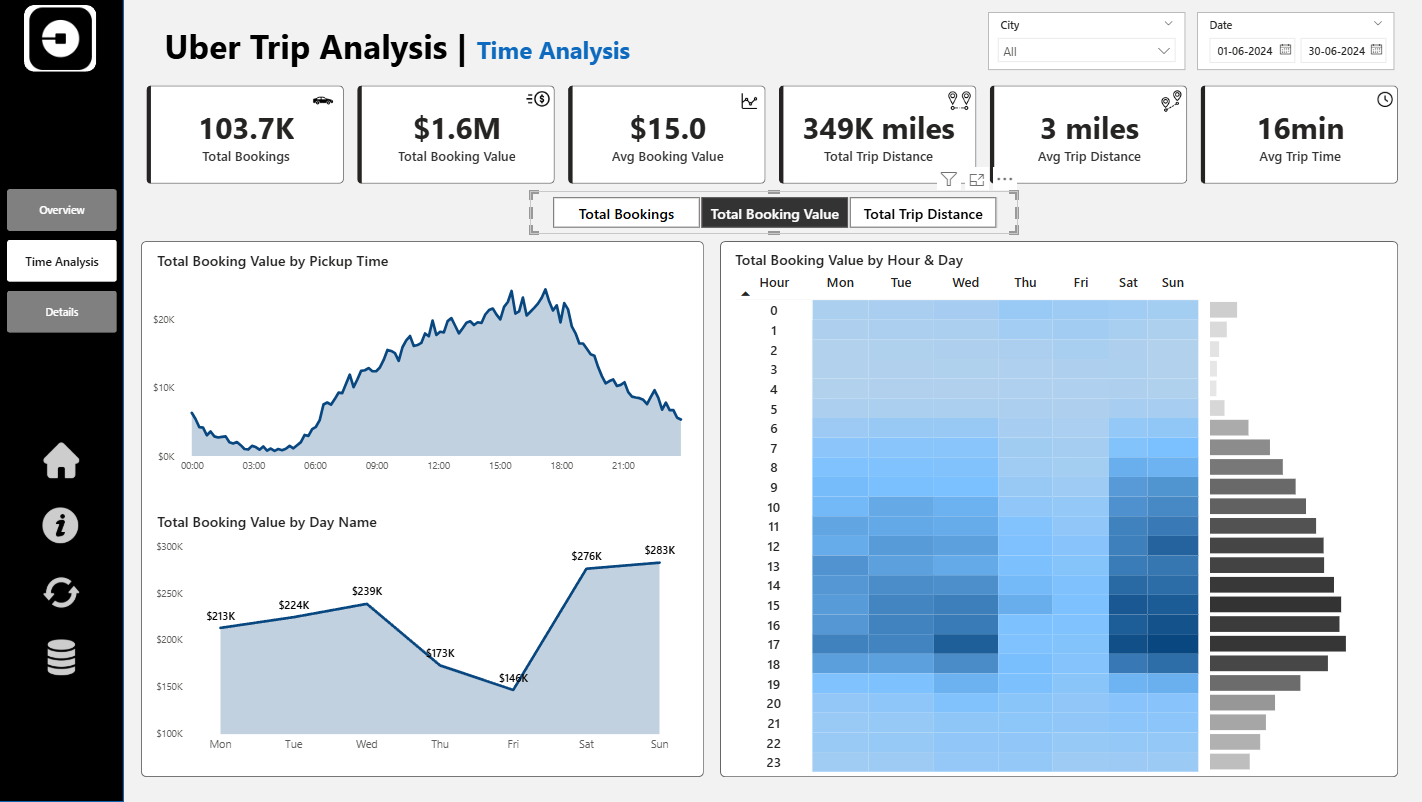

This screenshot's page, from the dashboard's own definition file:
{"tool":"powerbi","page":{"name":"Time Analysis","canvas":[1600,900],"ordinal":1},"visuals":[{"type":"shape","box":[161.2,272,630.2,600],"z":0},{"type":"shape","box":[0,0,141.8,899.9],"z":1000},{"type":"textbox","box":[182.5,23.5,596.6,73.9],"z":2000},{"type":"cardVisual","fields":{"Data":["Calculation Table.Total Bookings","Calculation Table.Total Booking Amount","Calculation Table.Avg Booking Amount","Calculation Table.Total Trip Distance","Calculation Table.Avg Trip Distance","Calculation Table.Avg Trip Time"]},"box":[162,93,1415,120],"z":3000},{"type":"image","box":[587.2,92.4,36.5,40.1],"z":4000},{"type":"image","box":[1059,97.3,36.5,35.3],"z":5000},{"type":"shape","box":[30.6,7.9,81,74.7],"z":5250,"group":"g1"},{"type":"image","box":[30,6,82,80],"z":5500,"group":"g1"},{"type":"image","box":[1298.5,97.3,34,35.3],"z":6000},{"type":"image","box":[1540.4,93.6,26.7,38.9],"z":7000},{"type":"image","box":[826.7,97.3,30.4,35.3],"z":8000},{"type":"image","box":[342.9,97.3,45,35.3],"z":9000},{"type":"slicer","fields":{"Values":["Dynamic Measure.Dynamic Measure"]},"box":[596.6,216,546.3,48],"z":10000},{"type":"slicer","fields":{"Values":["Calender Table.Date"]},"box":[1343.3,16,221,65],"z":11000},{"type":"slicer","fields":{"Values":["Location Table.City"]},"box":[1109.3,16,220.5,65],"z":12000},{"type":"areaChart","fields":{"Y":["Calculation Table.Total Bookings"],"Category":["Trip Details.Pickup Hour (HH MM SS) (bins)"]},"box":[169,307.8,614.6,234],"z":13000},{"type":"areaChart","fields":{"Y":["Calculation Table.Total Bookings"],"Category":["Calender Table.Day Name"]},"box":[172.5,600.3,607.1,253],"z":14000},{"type":"cardVisual","fields":{"Data":["Trip Details.Title for by Day Name"]},"box":[162.3,549.2,296.2,51.1],"z":15000},{"type":"cardVisual","fields":{"Data":["Trip Details.Title for by pickup time"]},"box":[162.3,257.5,296.6,51.5],"z":16000},{"type":"shape","box":[809.1,272.3,759.1,600.3],"z":17000},{"type":"pivotTable","fields":{"Values":["Calculation Table.Total Bookings"],"Rows":["Trip Details.Pick Up Hour (HH)"],"Columns":["Calender Table.Day Name"]},"box":[822.7,301,568.5,571.9],"z":18000},{"type":"barChart","fields":{"Y":["Calculation Table.Total Bookings"],"Category":["Trip Details.Pick Up Hour (HH)"]},"box":[1358.3,327,189.5,564],"z":19000},{"type":"cardVisual","fields":{"Data":["Trip Details.Title for by Hour & Day"]},"box":[809.1,256.5,296.2,51.1],"z":20000},{"type":"pageNavigator","box":[11,213.2,123,163],"z":21000},{"type":"group","id":"g1","title":"logo","box":[30,6,82,80],"z":22000},{"type":"image","box":[47,493,49.8,49.8],"z":23000},{"type":"image","box":[47,632.5,49.8,65.6],"z":24000},{"type":"image","box":[47,712.9,49.8,49.8],"z":25000},{"type":"group","id":"g2","title":"Group 1","box":[46.2,565,51.3,51.3],"z":26000},{"type":"image","box":[46.2,565,49.9,49.9],"z":31500,"group":"g2"},{"type":"card","fields":{"Values":["Calculation Table.Blank"]},"box":[46.2,565,51.3,51.3],"z":38500,"group":"g2"}]}

Visuals, with their boxes on the page's 1600x900 design canvas (x1, y1, x2, y2). These are canvas units, not pixel positions in the 1422x802 screenshot, which may show the page scaled, cropped or inside an application window:
shape: (161, 272, 791, 872)
shape: (0, 0, 142, 900)
textbox: (182, 24, 779, 97)
cardVisual - Calculation Table.Total Bookings x Calculation Table.Total Booking Amount: (162, 93, 1577, 213)
image: (587, 92, 624, 132)
image: (1059, 97, 1096, 133)
shape: (31, 8, 112, 83)
image: (30, 6, 112, 86)
image: (1298, 97, 1332, 133)
image: (1540, 94, 1567, 132)
image: (827, 97, 857, 133)
image: (343, 97, 388, 133)
slicer - Dynamic Measure.Dynamic Measure: (597, 216, 1143, 264)
slicer - Calender Table.Date: (1343, 16, 1564, 81)
slicer - Location Table.City: (1109, 16, 1330, 81)
areaChart - Calculation Table.Total Bookings x Trip Details.Pickup Hour (HH MM SS) (bins): (169, 308, 784, 542)
areaChart - Calculation Table.Total Bookings x Calender Table.Day Name: (172, 600, 780, 853)
cardVisual - Trip Details.Title for by Day Name: (162, 549, 458, 600)
cardVisual - Trip Details.Title for by pickup time: (162, 258, 459, 309)
shape: (809, 272, 1568, 873)
pivotTable - Calculation Table.Total Bookings x Trip Details.Pick Up Hour (HH): (823, 301, 1391, 873)
barChart - Calculation Table.Total Bookings x Trip Details.Pick Up Hour (HH): (1358, 327, 1548, 891)
cardVisual - Trip Details.Title for by Hour & Day: (809, 256, 1105, 308)
pageNavigator: (11, 213, 134, 376)
"logo" group: (30, 6, 112, 86)
image: (47, 493, 97, 543)
image: (47, 632, 97, 698)
image: (47, 713, 97, 763)
"Group 1" group: (46, 565, 98, 616)
image: (46, 565, 96, 615)
card - Calculation Table.Blank: (46, 565, 98, 616)
